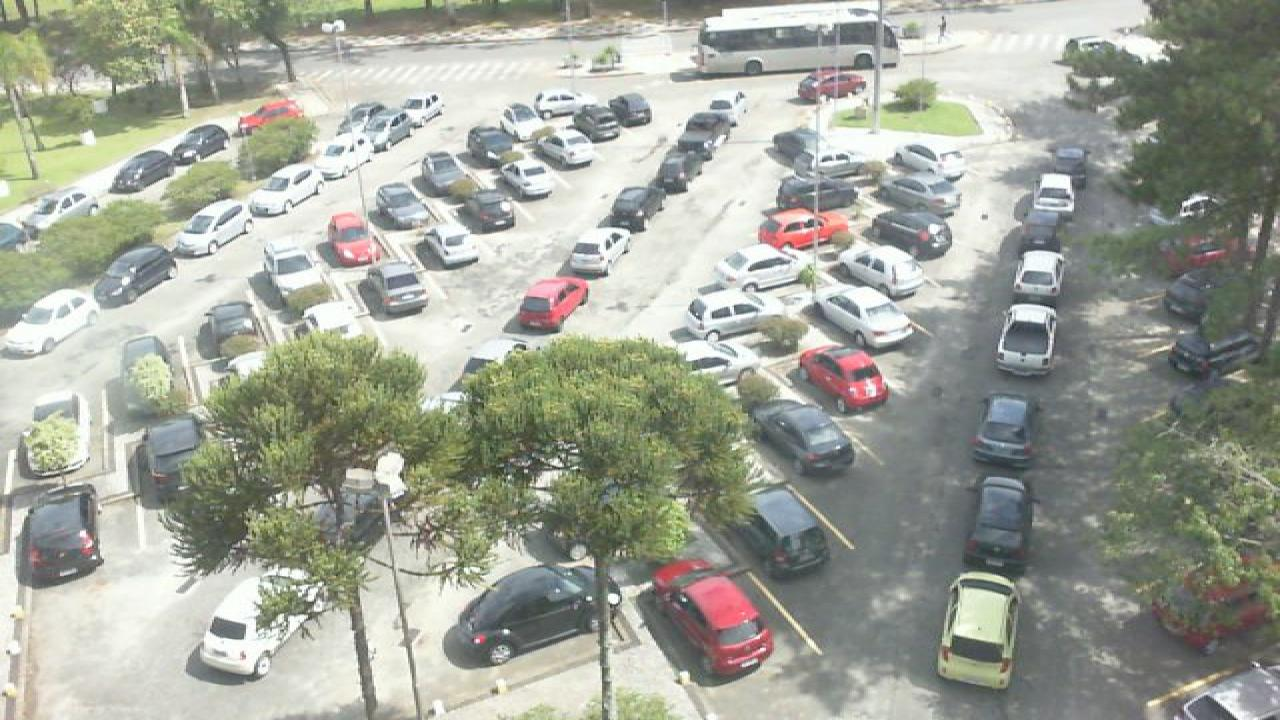Car: (444, 559, 616, 671), (640, 557, 778, 681), (188, 573, 322, 683), (932, 568, 1026, 692), (1150, 567, 1276, 656), (10, 481, 112, 585), (742, 480, 840, 578), (748, 394, 862, 478), (0, 285, 106, 361), (810, 282, 924, 352), (790, 341, 894, 416), (958, 473, 1040, 568), (128, 417, 208, 512), (666, 286, 778, 348), (16, 391, 94, 480), (110, 331, 194, 413), (964, 390, 1044, 472), (168, 194, 262, 258), (88, 243, 178, 309), (990, 300, 1064, 380), (704, 243, 812, 297), (836, 243, 934, 301), (1160, 327, 1262, 382), (508, 274, 596, 336), (860, 208, 958, 262), (748, 204, 858, 252), (196, 297, 270, 367), (352, 258, 434, 320), (240, 161, 328, 218), (250, 240, 328, 302), (674, 338, 762, 388), (770, 127, 864, 172), (18, 183, 102, 233), (1162, 267, 1236, 323), (874, 174, 968, 218), (562, 225, 638, 278), (306, 127, 382, 178), (324, 209, 384, 270), (1004, 246, 1066, 305), (778, 171, 866, 211), (106, 150, 184, 195), (890, 142, 970, 184), (606, 184, 672, 234), (158, 121, 234, 164), (298, 296, 368, 342), (790, 67, 870, 107), (416, 149, 480, 199), (370, 180, 432, 231), (1022, 172, 1078, 227), (450, 189, 518, 234), (648, 145, 706, 195), (500, 154, 560, 202), (236, 98, 308, 137), (676, 110, 740, 152), (540, 126, 602, 169), (464, 125, 524, 166), (352, 106, 412, 146), (560, 101, 614, 142), (386, 91, 448, 126), (602, 91, 656, 131), (526, 88, 596, 117), (502, 106, 554, 145), (1036, 145, 1090, 179), (698, 89, 750, 121)
